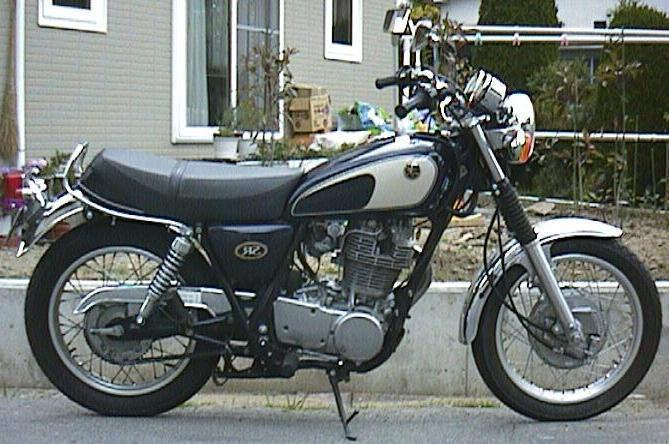motorcycle: (4, 30, 665, 425)
